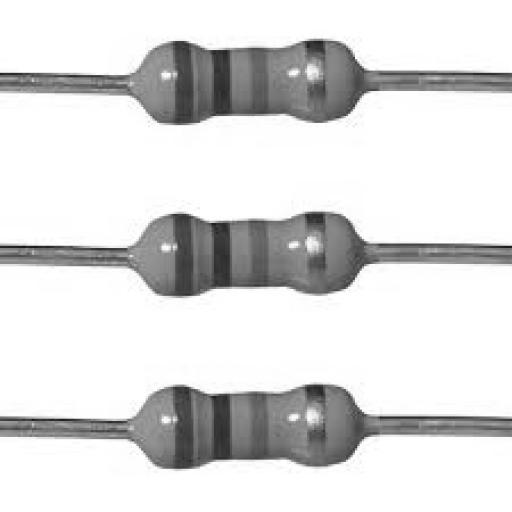RESISTOR: (114, 303, 436, 489), (77, 151, 391, 341), (90, 20, 386, 157)
